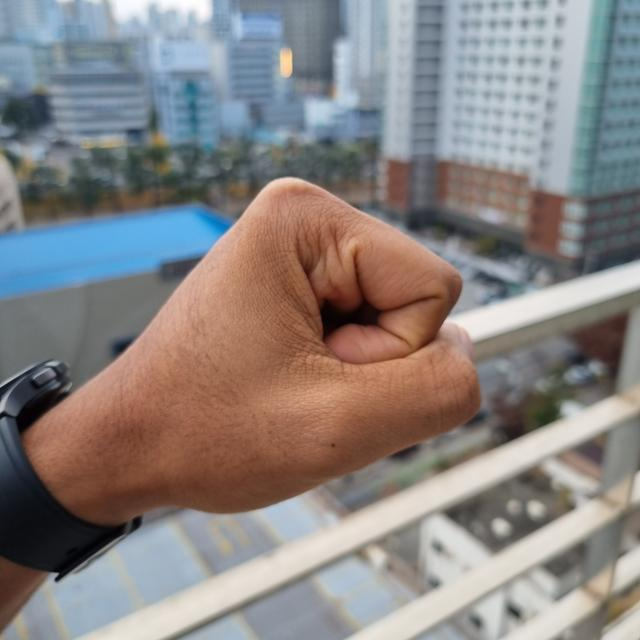Rock: (30, 179, 478, 523)
